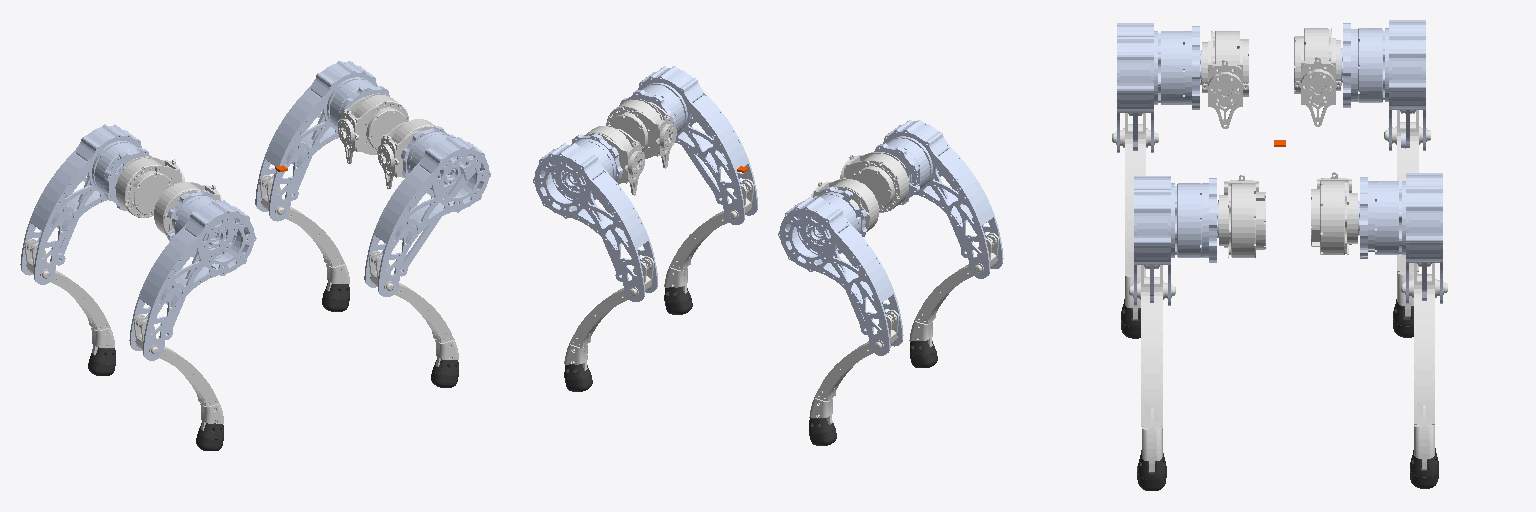
The robot description file, URDF, robot "dog3":
<robot name="dog3">
  <link name="base_link">
    <inertial>
      <origin xyz="-0.0041 0.0002 0.0011" rpy="0 0 0" />
      <mass value="5.6022" />
      <inertia ixx="0.0355" ixy="-0.0027" ixz="0.0004" iyy="0.0759" iyz="0.0001" izz="0.0995" />
    </inertial>
    <visual>
      <origin xyz="0 0 0" rpy="0 0 0" />
      <geometry>
        <mesh filename="../meshes/base_link.STL" />
      </geometry>
      <material name="">
        <color rgba="0.92549 0.92549 0.92549 1" />
      </material>
    </visual>
    <collision>
      <origin xyz="0 0 0" rpy="0 0 0" />
      <geometry>
        <mesh filename="../meshes/base_link.STL" />
      </geometry>
    </collision>
  </link>
  <link name="FR_hip">
    <inertial>
      <origin xyz="0.061 0.0027 -0.0003" rpy="0 0 0" />
      <mass value="0.9106" />
      <inertia ixx="0.0007" ixy="-0.0002" ixz="0" iyy="0.0045" iyz="0" izz="0.0043" />
    </inertial>
    <visual>
      <origin xyz="0 0 0" rpy="0 0 0" />
      <geometry>
        <mesh filename="../meshes/FR_hip.STL" />
      </geometry>
      <material name="">
        <color rgba="0.92549 0.92549 0.92549 1" />
      </material>
    </visual>
    <collision>
      <origin xyz="0 0 0" rpy="0 0 0" />
      <geometry>
        <mesh filename="../meshes/FR_hip.STL" />
      </geometry>
    </collision>
  </link>
  <joint name="FR_hip_joint" type="revolute">
    <origin xyz="0.170121050861099 -0.0491355305152084 0.00073676985418264" rpy="0 0 0" />
    <parent link="base_link" />
    <child link="FR_hip" />
    <axis xyz="1 0 0" />
    <limit lower="-0.5" upper="0.5" effort="20" velocity="30" />
  </joint>
  <link name="FR_thigh">
    <inertial>
      <origin xyz="-0.0015 -0.0495 -0.0136" rpy="0 0 0" />
      <mass value="1.4967" />
      <inertia ixx="0.0092" ixy="-0.0002" ixz="-0.0005" iyy="0.0052" iyz="-0.0018" izz="0.0062" />
    </inertial>
    <visual>
      <origin xyz="0 0 0" rpy="0 0 0" />
      <geometry>
        <mesh filename="../meshes/FR_thigh.STL" />
      </geometry>
      <material name="">
        <color rgba="0.86667 0.9098 1 1" />
      </material>
    </visual>
    <collision>
      <origin xyz="0 0 0" rpy="0 0 0" />
      <geometry>
        <mesh filename="../meshes/FR_thigh.STL" />
      </geometry>
    </collision>
  </link>
  <joint name="FR_thigh_joint" type="revolute">
    <origin xyz="0.0670000000000099 -0.029500730795311 1.32301457796413E-05" rpy="0 0.7 0" />
    <parent link="FR_hip" />
    <child link="FR_thigh" />
    <axis xyz="0 1 0" />
    <limit lower="-2.2000" upper="2.0000" effort="20" velocity="17.8" />
  </joint>
  <link name="FR_calf">
    <inertial>
      <origin xyz="0.0052 0.0303 -0.0688" rpy="0 0 0" />
      <mass value="0.3578" />
      <inertia ixx="0.0047" ixy="-0.0001" ixz="-0.0001" iyy="0.0044" iyz="0.0007" izz="0.0004" />
    </inertial>
    <visual>
      <origin xyz="0 0 0" rpy="0 0 0" />
      <geometry>
        <mesh filename="../meshes/FR_calf.STL" />
      </geometry>
      <material name="">
        <color rgba="0.92549 0.92549 0.92549 1" />
      </material>
    </visual>
    <collision>
      <origin xyz="0 0 0" rpy="0 0 0" />
      <geometry>
        <mesh filename="../meshes/FR_calf.STL" />
      </geometry>
    </collision>
  </link>
  <joint name="FR_calf_joint" type="revolute">
    <origin xyz="0 -0.116800000000012 -0.214999999999961" rpy="0 -1.44 0" />
    <parent link="FR_thigh" />
    <child link="FR_calf" />
    <axis xyz="0 1 0" />
    <limit lower="-1.3600" upper="0.2400" effort="20" velocity="17.8" />
  </joint>
  <link name="RF_FOOT">
    <inertial>
      <origin xyz="0.0183 0.0001 0.0126" rpy="0 0 0" />
      <mass value="0.0682" />
      <inertia ixx="0.000011" ixy="0" ixz="0" iyy="0.0001" iyz="0" izz="1e-05" />
    </inertial>
    <visual>
      <origin xyz="0 0 0" rpy="0 0 0" />
      <geometry>
        <mesh filename="../meshes/RF_FOOT.STL" />
      </geometry>
      <material name="">
        <color rgba="0.29804 0.29804 0.29804 1" />
      </material>
    </visual>
    <collision>
      <origin xyz="0 0 0" rpy="0 0 0" />
      <geometry>
        <mesh filename="../meshes/RF_FOOT.STL" />
      </geometry>
    </collision>
  </link>
  <joint name="RF_FOOT_joint" type="fixed">
    <origin xyz="-0.0618978638986224 0.0301588012545899 -0.242542388790583" rpy="0 0 0" />
    <parent link="FR_calf" />
    <child link="RF_FOOT" />
    <axis xyz="0 0 0" />
  </joint>
  <link name="FL_hip">
    <inertial>
      <origin xyz="0.0608 -0.0027 -0.0001" rpy="0 0 0" />
      <mass value="0.9118" />
      <inertia ixx="0.0007" ixy="0.0002" ixz="0" iyy="0.0045" iyz="0" izz="0.0042" />
    </inertial>
    <visual>
      <origin xyz="0 0 0" rpy="0 0 0" />
      <geometry>
        <mesh filename="../meshes/FL_hip.STL" />
      </geometry>
      <material name="">
        <color rgba="0.92549 0.92549 0.92549 1" />
      </material>
    </visual>
    <collision>
      <origin xyz="0 0 0" rpy="0 0 0" />
      <geometry>
        <mesh filename="../meshes/FL_hip.STL" />
      </geometry>
    </collision>
  </link>
  <joint name="FL_hip_joint" type="revolute">
    <origin xyz="0.162386016333632 0.070613199513998 0.000763213927970352" rpy="0 0 0" />
    <parent link="base_link" />
    <child link="FL_hip" />
    <axis xyz="1 0 0" />
    <limit lower="-0.5" upper="0.5" effort="20" velocity="30" />
  </joint>
  <link name="FL_thigh">
    <inertial>
      <origin xyz="-0.0042 0.0496 -0.0141" rpy="0 0 0" />
      <mass value="1.497" />
      <inertia ixx="0.0092" ixy="0.0005" ixz="-0.0005" iyy="0.0052" iyz="0.0019" izz="0.0062" />
    </inertial>
    <visual>
      <origin xyz="0 0 0" rpy="0 0 0" />
      <geometry>
        <mesh filename="../meshes/FL_thigh.STL" />
      </geometry>
      <material name="">
        <color rgba="0.86667 0.9098 1 1" />
      </material>
    </visual>
    <collision>
      <origin xyz="0 0 0" rpy="0 0 0" />
      <geometry>
        <mesh filename="../meshes/FL_thigh.STL" />
      </geometry>
    </collision>
  </link>
  <joint name="FL_thigh_joint" type="revolute">
    <origin xyz="0.0670000000000024 0.0295009812887796 -1.32139279718779E-05" rpy="0 0.7 0" />
    <parent link="FL_hip" />
    <child link="FL_thigh" />
    <axis xyz="0 1 0" />
    <limit lower="-2.2000" upper="2.0000" effort="20" velocity="17.8" />
  </joint>
  <link name="FL_calf">
    <inertial>
      <origin xyz="0.0052 -0.0303 -0.0688" rpy="0 0 0" />
      <mass value="0.3578" />
      <inertia ixx="0.0047" ixy="0.0001" ixz="-0.0001" iyy="0.0044" iyz="-0.0007" izz="0.0004" />
    </inertial>
    <visual>
      <origin xyz="0 0 0" rpy="0 0 0" />
      <geometry>
        <mesh filename="../meshes/FL_calf.STL" />
      </geometry>
      <material name="">
        <color rgba="0.92549 0.92549 0.92549 1" />
      </material>
    </visual>
    <collision>
      <origin xyz="0 0 0" rpy="0 0 0" />
      <geometry>
        <mesh filename="../meshes/FL_calf.STL" />
      </geometry>
    </collision>
  </link>
  <joint name="FL_calf_joint" type="revolute">
    <origin xyz="0 0.1168 -0.215000000000002" rpy="0 -1.44 0" />
    <parent link="FL_thigh" />
    <child link="FL_calf" />
    <axis xyz="0 1 0" />
    <limit lower="-1.3600" upper="0.2400" effort="20" velocity="17.8" />
  </joint>
  <link name="LF_FOOT">
    <inertial>
      <origin xyz="0.0183 0.0001 0.0126" rpy="0 0 0" />
      <mass value="0.0682" />
      <inertia ixx="0.000011" ixy="0" ixz="0" iyy="0.0001" iyz="0" izz="1e-05" />
    </inertial>
    <visual>
      <origin xyz="0 0 0" rpy="0 0 0" />
      <geometry>
        <mesh filename="../meshes/LF_FOOT.STL" />
      </geometry>
      <material name="">
        <color rgba="0.29804 0.29804 0.29804 1" />
      </material>
    </visual>
    <collision>
      <origin xyz="0 0 0" rpy="0 0 0" />
      <geometry>
        <mesh filename="../meshes/LF_FOOT.STL" />
      </geometry>
    </collision>
  </link>
  <joint name="LF_FOOT_joint" type="fixed">
    <origin xyz="-0.0618978638986575 -0.0304411987454136 -0.242542388790538" rpy="0 0 0" />
    <parent link="FL_calf" />
    <child link="LF_FOOT" />
    <axis xyz="0 0 0" />
  </joint>
  <link name="RL_hip">
    <inertial>
      <origin xyz="-0.0609 -0.0027 -0.0002" rpy="0 0 0" />
      <mass value="0.9106" />
      <inertia ixx="0.0007" ixy="-0.0002" ixz="0" iyy="0.0045" iyz="0" izz="0.0042" />
    </inertial>
    <visual>
      <origin xyz="0 0 0" rpy="0 0 0" />
      <geometry>
        <mesh filename="../meshes/RL_hip.STL" />
      </geometry>
      <material name="">
        <color rgba="0.92549 0.92549 0.92549 1" />
      </material>
    </visual>
    <collision>
      <origin xyz="0 0 0" rpy="0 0 0" />
      <geometry>
        <mesh filename="../meshes/RL_hip.STL" />
      </geometry>
    </collision>
  </link>
  <joint name="RL_hip_joint" type="revolute">
    <origin xyz="-0.170120245445162 0.0491230615940772 0.000750807236728712" rpy="0 0 0" />
    <parent link="base_link" />
    <child link="RL_hip" />
    <axis xyz="1 0 0" />
    <limit lower="-0.5" upper="0.5" effort="20" velocity="30" />
  </joint>
  <link name="RL_thigh">
    <inertial>
      <origin xyz="-0.0029 0.0501 -0.0166" rpy="0 0 0" />
      <mass value="1.5164" />
      <inertia ixx="0.0101" ixy="0.0004" ixz="-0.0004" iyy="0.006" iyz="0.0022" izz="0.0063" />
    </inertial>
    <visual>
      <origin xyz="0 0 0" rpy="0 0 0" />
      <geometry>
        <mesh filename="../meshes/RL_thigh.STL" />
      </geometry>
      <material name="">
        <color rgba="0.86667 0.9098 1 1" />
      </material>
    </visual>
    <collision>
      <origin xyz="0 0 0" rpy="0 0 0" />
      <geometry>
        <mesh filename="../meshes/RL_thigh.STL" />
      </geometry>
    </collision>
  </link>
  <joint name="RL_thigh_joint" type="revolute">
    <origin xyz="-0.0670000000000013 0.029513225701848 0" rpy="0 0.7 0" />
    <parent link="RL_hip" />
    <child link="RL_thigh" />
    <axis xyz="0 1 0" />
    <limit lower="-2.2000" upper="2.0000" effort="20" velocity="17.8" />
  </joint>
  <link name="RL_calf">
    <inertial>
      <origin xyz="0.0058 -0.0304 -0.0653" rpy="0 0 0" />
      <mass value="0.3578" />
      <inertia ixx="0.0047" ixy="0.0001" ixz="-0.0001" iyy="0.0044" iyz="-0.0007" izz="0.0004" />
    </inertial>
    <visual>
      <origin xyz="0 0 0" rpy="0 0 0" />
      <geometry>
        <mesh filename="../meshes/RL_calf.STL" />
      </geometry>
      <material name="">
        <color rgba="0.92549 0.92549 0.92549 1" />
      </material>
    </visual>
    <collision>
      <origin xyz="0 0 0" rpy="0 0 0" />
      <geometry>
        <mesh filename="../meshes/RL_calf.STL" />
      </geometry>
    </collision>
  </link>
  <joint name="RL_calf_joint" type="revolute">
    <origin xyz="0 0.116799999999995 -0.215" rpy="0 -1.44 0" />
    <parent link="RL_thigh" />
    <child link="RL_calf" />
    <axis xyz="0 1 0" />
    <limit lower="-1.3600" upper="0.2400" effort="20" velocity="17.8" />
  </joint>
  <link name="LH_FOOT">
    <inertial>
      <origin xyz="0.0183 0.0001 0.0126" rpy="0 0 0" />
      <mass value="0.0682" />
      <inertia ixx="0.000011" ixy="0" ixz="0" iyy="0.0001" iyz="0" izz="1e-05" />
    </inertial>
    <visual>
      <origin xyz="0 0 0" rpy="0 0 0" />
      <geometry>
        <mesh filename="../meshes/LH_FOOT.STL" />
      </geometry>
      <material name="">
        <color rgba="0.29804 0.29804 0.29804 1" />
      </material>
    </visual>
    <collision>
      <origin xyz="0 0 0" rpy="0 0 0" />
      <geometry>
        <mesh filename="../meshes/LH_FOOT.STL" />
      </geometry>
    </collision>
  </link>
  <joint name="LH_FOOT_joint" type="fixed">
    <origin xyz="-0.06157765364946 -0.03089611695 -0.2449908695" rpy="0 0 0" />
    <parent link="RL_calf" />
    <child link="LH_FOOT" />
    <axis xyz="0 0 0" />
  </joint>
  <link name="RR_hip">
    <inertial>
      <origin xyz="-0.0611 0.0027 0.0002" rpy="0 0 0" />
      <mass value="0.9106" />
      <inertia ixx="0.0007" ixy="0.0002" ixz="0" iyy="0.0045" iyz="0" izz="0.0043" />
    </inertial>
    <visual>
      <origin xyz="0 0 0" rpy="0 0 0" />
      <geometry>
        <mesh filename="../meshes/RR_hip.STL" />
      </geometry>
      <material name="">
        <color rgba="0.92549 0.92549 0.92549 1" />
      </material>
    </visual>
    <collision>
      <origin xyz="0 0 0" rpy="0 0 0" />
      <geometry>
        <mesh filename="../meshes/RR_hip.STL" />
      </geometry>
    </collision>
  </link>
  <joint name="RR_hip_joint" type="revolute">
    <origin xyz="-0.162385367166132 -0.0706232494993415 0.000740358980921563" rpy="0 0 0" />
    <parent link="base_link" />
    <child link="RR_hip" />
    <axis xyz="1 0 0" />
    <limit lower="-0.5" upper="0.5" effort="20" velocity="30" />
  </joint>
  <link name="RR_thigh">
    <inertial>
      <origin xyz="-0.0033 -0.0494 -0.014" rpy="0 0 0" />
      <mass value="1.4967" />
      <inertia ixx="0.0092" ixy="-0.0005" ixz="-0.0004" iyy="0.0052" iyz="-0.0019" izz="0.0061" />
    </inertial>
    <visual>
      <origin xyz="0 0 0" rpy="0 0 0" />
      <geometry>
        <mesh filename="../meshes/RR_thigh.STL" />
      </geometry>
      <material name="">
        <color rgba="0.86667 0.9098 1 1" />
      </material>
    </visual>
    <collision>
      <origin xyz="0 0 0" rpy="0 0 0" />
      <geometry>
        <mesh filename="../meshes/RR_thigh.STL" />
      </geometry>
    </collision>
  </link>
  <joint name="RR_thigh_joint" type="revolute">
    <origin xyz="-0.0669999999999995 -0.0294909103591312 0" rpy="0 0.7 0" />
    <parent link="RR_hip" />
    <child link="RR_thigh" />
    <axis xyz="0 1 0" />
    <limit lower="-2.2000" upper="2.0000" effort="20" velocity="17.8" />
  </joint>
  <link name="RR_calf">
    <inertial>
      <origin xyz="0.0052 0.0303 -0.0688" rpy="0 0 0" />
      <mass value="0.3578" />
      <inertia ixx="0.0047" ixy="-0.0001" ixz="-0.0001" iyy="0.0044" iyz="0.0007" izz="0.0004" />
    </inertial>
    <visual>
      <origin xyz="0 0 0" rpy="0 0 0" />
      <geometry>
        <mesh filename="../meshes/RR_calf.STL" />
      </geometry>
      <material name="">
        <color rgba="0.92549 0.92549 0.92549 1" />
      </material>
    </visual>
    <collision>
      <origin xyz="0 0 0" rpy="0 0 0" />
      <geometry>
        <mesh filename="../meshes/RR_calf.STL" />
      </geometry>
    </collision>
  </link>
  <joint name="RR_calf_joint" type="revolute">
    <origin xyz="0 -0.116799999999992 -0.215" rpy="0 -1.44 0" />
    <parent link="RR_thigh" />
    <child link="RR_calf" />
    <axis xyz="0 1 0" />
    <limit lower="-1.3600" upper="0.2400" effort="20" velocity="17.8" />
  </joint>
  <link name="RH_FOOT">
    <inertial>
      <origin xyz="0.0183 0.0001 0.0126" rpy="0 0 0" />
      <mass value="0.0682" />
      <inertia ixx="0.000011" ixy="0" ixz="0" iyy="0.0001" iyz="0" izz="1e-05" />
    </inertial>
    <visual>
      <origin xyz="0 0 0" rpy="0 0 0" />
      <geometry>
        <mesh filename="../meshes/RH_FOOT.STL" />
      </geometry>
      <material name="">
        <color rgba="0.29804 0.29804 0.29804 1" />
      </material>
    </visual>
    <collision>
      <origin xyz="0 0 0" rpy="0 0 0" />
      <geometry>
        <mesh filename="../meshes/RH_FOOT.STL" />
      </geometry>
    </collision>
  </link>
  <joint name="RH_FOOT_joint" type="fixed">
    <origin xyz="-0.06189786389862 0.03015880125 -0.2425423888" rpy="0 0 0" />
    <parent link="RR_calf" />
    <child link="RH_FOOT" />
    <axis xyz="0 0 0" />
  </joint>
  
<transmission name="FR_hip_trans">
  <type>transmission_interface/SimpleTransmission</type>
  <joint name="FR_hip_joint">
    <hardwareInterface>hardware_interface/EffortJointInterface</hardwareInterface>
  </joint>
  <actuator name="FR_hip_motor"><mechanicalReduction>1</mechanicalReduction></actuator>
</transmission>
<transmission name="FR_thigh_trans">
  <type>transmission_interface/SimpleTransmission</type>
  <joint name="FR_thigh_joint">
    <hardwareInterface>hardware_interface/EffortJointInterface</hardwareInterface>
  </joint>
  <actuator name="FR_thigh_motor"><mechanicalReduction>1</mechanicalReduction></actuator>
</transmission>
<transmission name="FR_calf_trans">
  <type>transmission_interface/SimpleTransmission</type>
  <joint name="FR_calf_joint">
    <hardwareInterface>hardware_interface/EffortJointInterface</hardwareInterface>
  </joint>
  <actuator name="FR_calf_motor"><mechanicalReduction>1</mechanicalReduction></actuator>
</transmission>

<transmission name="FL_hip_trans">
  <type>transmission_interface/SimpleTransmission</type>
  <joint name="FL_hip_joint">
    <hardwareInterface>hardware_interface/EffortJointInterface</hardwareInterface>
  </joint>
  <actuator name="FL_hip_motor"><mechanicalReduction>1</mechanicalReduction></actuator>
</transmission>
<transmission name="FL_thigh_trans">
  <type>transmission_interface/SimpleTransmission</type>
  <joint name="FL_thigh_joint">
    <hardwareInterface>hardware_interface/EffortJointInterface</hardwareInterface>
  </joint>
  <actuator name="FL_thigh_motor"><mechanicalReduction>1</mechanicalReduction></actuator>
</transmission>
<transmission name="FL_calf_trans">
  <type>transmission_interface/SimpleTransmission</type>
  <joint name="FL_calf_joint">
    <hardwareInterface>hardware_interface/EffortJointInterface</hardwareInterface>
  </joint>
  <actuator name="FL_calf_motor"><mechanicalReduction>1</mechanicalReduction></actuator>
</transmission>

<transmission name="RL_hip_trans">
  <type>transmission_interface/SimpleTransmission</type>
  <joint name="RL_hip_joint">
    <hardwareInterface>hardware_interface/EffortJointInterface</hardwareInterface>
  </joint>
  <actuator name="RL_hip_motor"><mechanicalReduction>1</mechanicalReduction></actuator>
</transmission>
<transmission name="RL_thigh_trans">
  <type>transmission_interface/SimpleTransmission</type>
  <joint name="RL_thigh_joint">
    <hardwareInterface>hardware_interface/EffortJointInterface</hardwareInterface>
  </joint>
  <actuator name="RL_thigh_motor"><mechanicalReduction>1</mechanicalReduction></actuator>
</transmission>
<transmission name="RL_calf_trans">
  <type>transmission_interface/SimpleTransmission</type>
  <joint name="RL_calf_joint">
    <hardwareInterface>hardware_interface/EffortJointInterface</hardwareInterface>
  </joint>
  <actuator name="RL_calf_motor"><mechanicalReduction>1</mechanicalReduction></actuator>
</transmission>

<transmission name="RR_hip_trans">
  <type>transmission_interface/SimpleTransmission</type>
  <joint name="RR_hip_joint">
    <hardwareInterface>hardware_interface/EffortJointInterface</hardwareInterface>
  </joint>
  <actuator name="RR_hip_motor"><mechanicalReduction>1</mechanicalReduction></actuator>
</transmission>
<transmission name="RR_thigh_trans">
  <type>transmission_interface/SimpleTransmission</type>
  <joint name="RR_thigh_joint">
    <hardwareInterface>hardware_interface/EffortJointInterface</hardwareInterface>
  </joint>
  <actuator name="RR_thigh_motor"><mechanicalReduction>1</mechanicalReduction></actuator>
</transmission>
<transmission name="RR_calf_trans">
  <type>transmission_interface/SimpleTransmission</type>
  <joint name="RR_calf_joint">
    <hardwareInterface>hardware_interface/EffortJointInterface</hardwareInterface>
  </joint>
  <actuator name="RR_calf_motor"><mechanicalReduction>1</mechanicalReduction></actuator>
</transmission>


  

  

  <link name="base_imu">
    <inertial>
      <mass value="0.01" />
      <origin rpy="0 0 0" xyz="0 0 0" />
      <inertia ixx="0.000001" ixy="0" ixz="0" iyy="0.000001" iyz="0" izz="0.000001" />
    </inertial>
    <visual>
      <origin rpy="0 0 0" xyz="0 0 0" />
      <geometry>
        <box size="0.015 0.015 0.004" />
      </geometry>
      <material name="orange">
        <color rgba="1.0 0.4235 0.0392 1.0" />
      </material>
    </visual>

    <collision>
      <origin rpy="0 0 0" xyz="0 0 0" />
      <geometry>
        <box size="0.015 0.015 0.004" />
      </geometry>
    </collision>

  </link>
  <joint name="base_imu_joint" type="fixed">
    <parent link="base_link" />
    <child link="base_imu" />
    <origin rpy="0 0 0" xyz="0 0 0" />
  </joint>
</robot>

--- What the picture shows (computed from the rendered views, not written in the file) ---
The picture shows the robot from 3 angles, left to right: view 1: azimuth 30°, elevation 25°; view 2: azimuth 150°, elevation 25°; view 3: azimuth 270°, elevation 25°; orthographic projection.
Model dog3 with 18 links and 17 joints (12 revolute, 5 fixed), rooted at base_link, posed every joint at zero.
Visible links, largest first — view 1: FR_thigh, RR_thigh, RL_thigh, FL_thigh, FL_hip, RL_hip, RL_calf, FR_calf, FL_calf, RR_calf, FR_hip, RR_hip (+4 smaller); view 2: FL_thigh, RL_thigh, RR_thigh, FR_thigh, FR_hip, RR_hip, FR_calf, FL_calf, RR_calf, RL_calf, FL_hip, RL_hip (+4 smaller); view 3: RL_thigh, RR_thigh, FR_thigh, FL_thigh, FR_calf, FL_calf, RL_hip, RR_hip, FR_hip, FL_hip, RR_calf, RL_calf (+4 smaller).
Link boxes in pixels (x1=…): FR_thigh: x1=364, y1=126, x2=490, y2=296; RR_thigh: x1=129, y1=190, x2=256, y2=360; RL_thigh: x1=20, y1=124, x2=151, y2=284; FL_thigh: x1=255, y1=61, x2=389, y2=221; FL_hip: x1=338, y1=93, x2=408, y2=163; RL_hip: x1=115, y1=156, x2=184, y2=217; RL_calf: x1=24, y1=239, x2=114, y2=354; FR_calf: x1=369, y1=251, x2=458, y2=366; FL_calf: x1=259, y1=175, x2=349, y2=290; RR_calf: x1=134, y1=314, x2=223, y2=430; FR_hip: x1=377, y1=119, x2=434, y2=188; RR_hip: x1=154, y1=182, x2=222, y2=235; FL_thigh: x1=533, y1=134, x2=657, y2=301; RL_thigh: x1=778, y1=186, x2=903, y2=355; RR_thigh: x1=874, y1=120, x2=1003, y2=278; FR_thigh: x1=619, y1=66, x2=757, y2=224; FR_hip: x1=606, y1=99, x2=676, y2=168; RR_hip: x1=840, y1=152, x2=909, y2=212; FR_calf: x1=664, y1=179, x2=753, y2=293; FL_calf: x1=564, y1=256, x2=653, y2=370; RR_calf: x1=909, y1=233, x2=998, y2=347; RL_calf: x1=809, y1=310, x2=898, y2=424; FL_hip: x1=584, y1=126, x2=644, y2=195; RL_hip: x1=811, y1=179, x2=878, y2=231; RL_thigh: x1=1341, y1=20, x2=1426, y2=150; RR_thigh: x1=1117, y1=23, x2=1201, y2=152; FR_thigh: x1=1134, y1=176, x2=1218, y2=305; FL_thigh: x1=1358, y1=173, x2=1442, y2=303; FR_calf: x1=1129, y1=265, x2=1175, y2=471; FL_calf: x1=1401, y1=263, x2=1447, y2=469; RL_hip: x1=1294, y1=28, x2=1341, y2=126; RR_hip: x1=1202, y1=31, x2=1248, y2=128; FR_hip: x1=1218, y1=175, x2=1265, y2=257; FL_hip: x1=1311, y1=172, x2=1357, y2=254; RR_calf: x1=1112, y1=113, x2=1158, y2=319; RL_calf: x1=1384, y1=110, x2=1430, y2=316.
Size in the robot's own frame: 0.6923 by 0.4338 by 0.4495 metres.
Meshes: 17 distinct files referenced, 16 mesh visuals loaded (16 binary STL); not drawn: 1 (reference not matched to a file when rendering).
